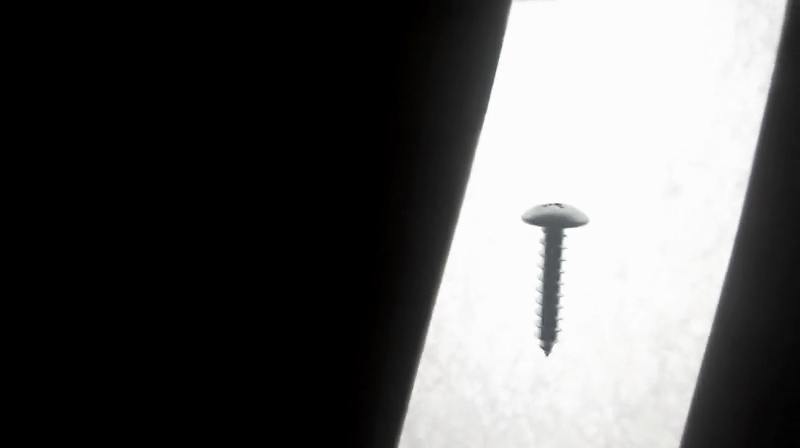S003: (517, 197, 592, 359)
